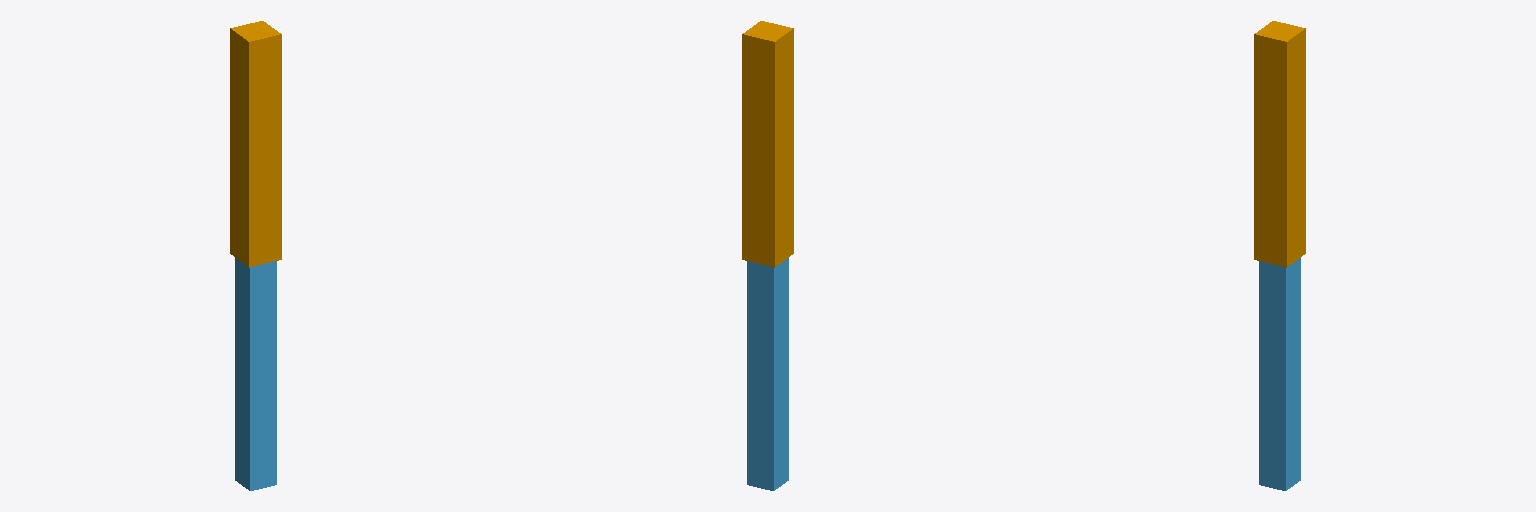
The robot description file, URDF, robot "knee_smoke":
<?xml version="1.0"?>
<!-- Minimal two-link knee for validating the URDF->smimport pipeline
     (see sns_urdf_smoke.m). Stand-in for the real SW2URDF export of
     09_BA_003.SLDASM. -->
<robot name="knee_smoke">
  <link name="femur">
    <inertial>
      <origin xyz="0 0 -0.2" rpy="0 0 0"/>
      <mass value="2.0"/>
      <inertia ixx="0.0270" iyy="0.0270" izz="0.0036" ixy="0" ixz="0" iyz="0"/>
    </inertial>
    <visual>
      <origin xyz="0 0 -0.2" rpy="0 0 0"/>
      <geometry><box size="0.06 0.06 0.4"/></geometry>
    </visual>
    <collision>
      <origin xyz="0 0 -0.2" rpy="0 0 0"/>
      <geometry><box size="0.06 0.06 0.4"/></geometry>
    </collision>
  </link>
  <link name="tibia">
    <inertial>
      <origin xyz="0 0 -0.2" rpy="0 0 0"/>
      <mass value="1.2"/>
      <inertia ixx="0.0163" iyy="0.0163" izz="0.0022" ixy="0" ixz="0" iyz="0"/>
    </inertial>
    <visual>
      <origin xyz="0 0 -0.2" rpy="0 0 0"/>
      <geometry><box size="0.05 0.05 0.4"/></geometry>
    </visual>
    <collision>
      <origin xyz="0 0 -0.2" rpy="0 0 0"/>
      <geometry><box size="0.05 0.05 0.4"/></geometry>
    </collision>
  </link>
  <joint name="knee" type="revolute">
    <origin xyz="0 0 -0.4" rpy="0 0 0"/>
    <parent link="femur"/>
    <child link="tibia"/>
    <axis xyz="1 0 0"/>
    <limit lower="-1.5708" upper="0" effort="100" velocity="10"/>
  </joint>
</robot>

--- What the picture shows (computed from the rendered views, not written in the file) ---
3 views of the same robot in one strip: view 1: azimuth 30°, elevation 25°; view 2: azimuth 150°, elevation 25°; view 3: azimuth 330°, elevation 25° (orthographic).
Robot: knee_smoke — 2 links, 1 joints (1 revolute); root link femur; default pose: all joints at 0.
Visible links, largest first — view 1: femur, tibia; view 2: femur, tibia; view 3: femur, tibia.
Boxes of the visible links, left/top/right/bottom form: femur: left=230, top=21, right=281, bottom=267; tibia: left=235, top=258, right=276, bottom=490; femur: left=742, top=21, right=793, bottom=267; tibia: left=747, top=258, right=788, bottom=490; femur: left=1254, top=21, right=1305, bottom=267; tibia: left=1259, top=258, right=1300, bottom=490.
Size in the robot's own frame: 0.06 by 0.06 by 0.8 metres.
Geometry: primitives only (box / cylinder / sphere), no mesh files.
